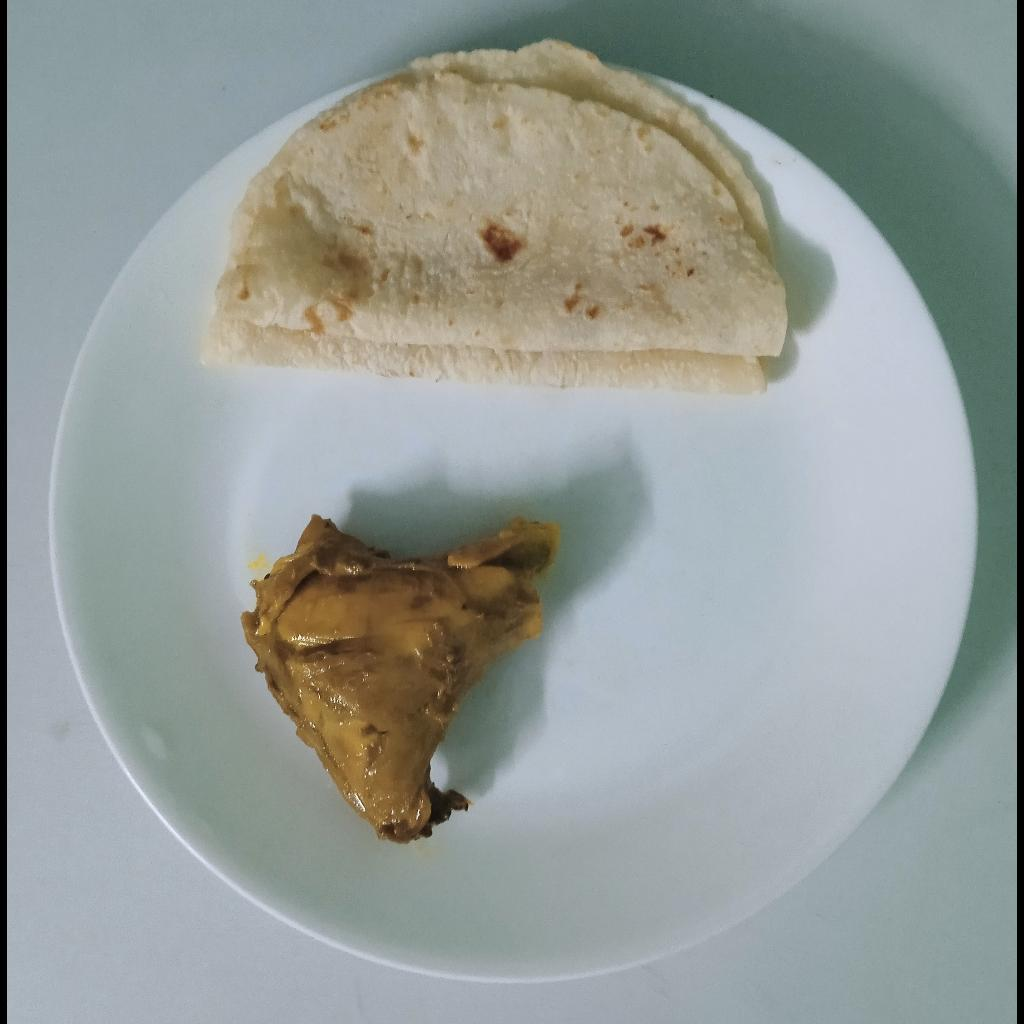chicken: (237, 515, 561, 843)
ruti: (202, 39, 791, 397)
